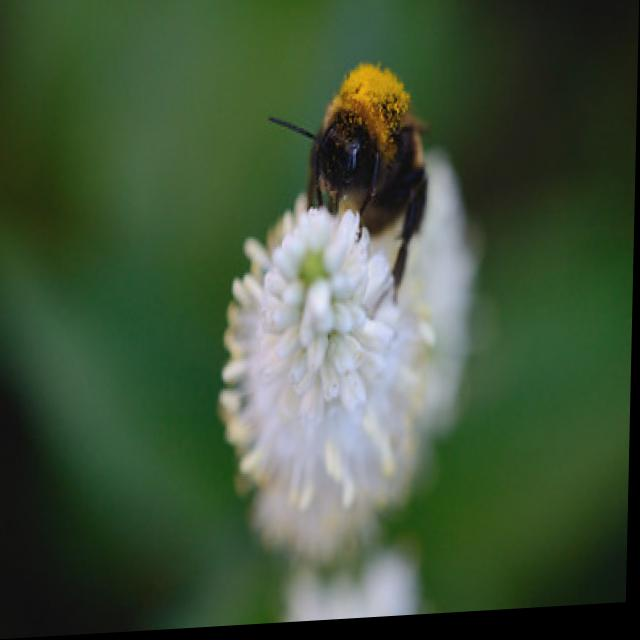Abeille: (258, 38, 480, 316)
